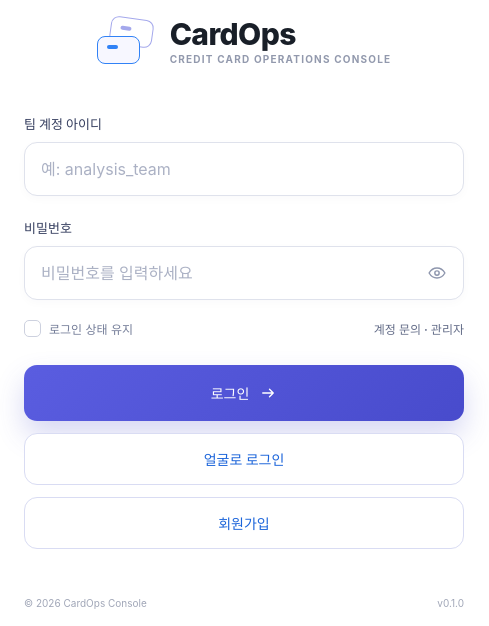
Test case: 로그인 페이지 › 비밀번호 표시 상태를 전환합니다
Click the button named "비밀번호 표시하기" at (437, 272), box [415, 250, 459, 294]
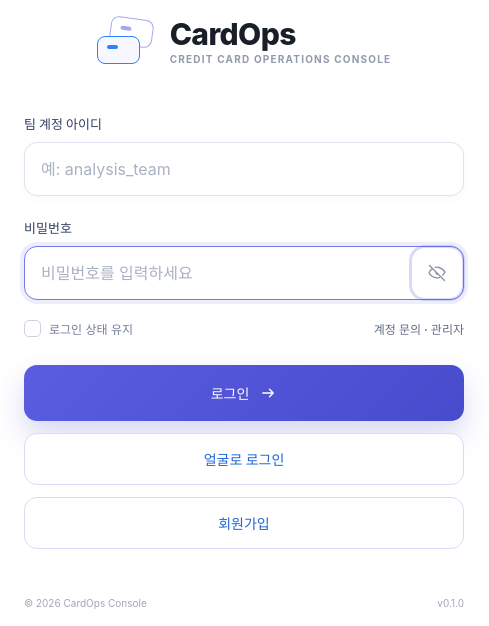
Expected: the button named "비밀번호 숨기기" is shown, [415, 250, 459, 294]
